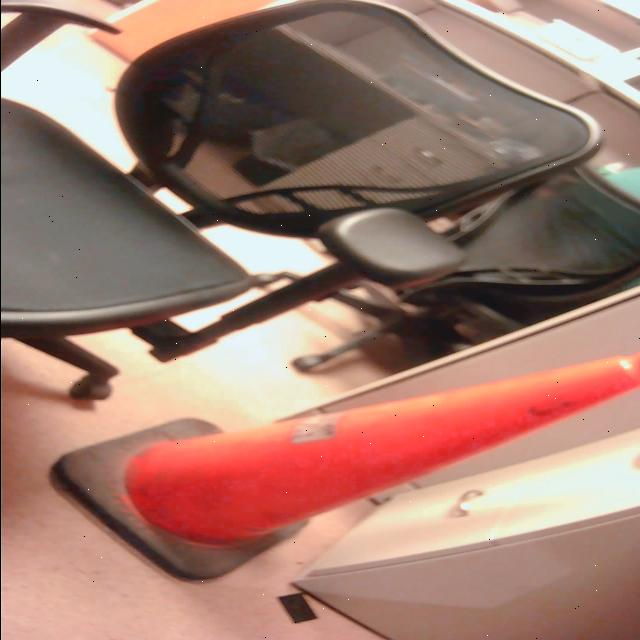traffic cone: (41, 346, 640, 589)
